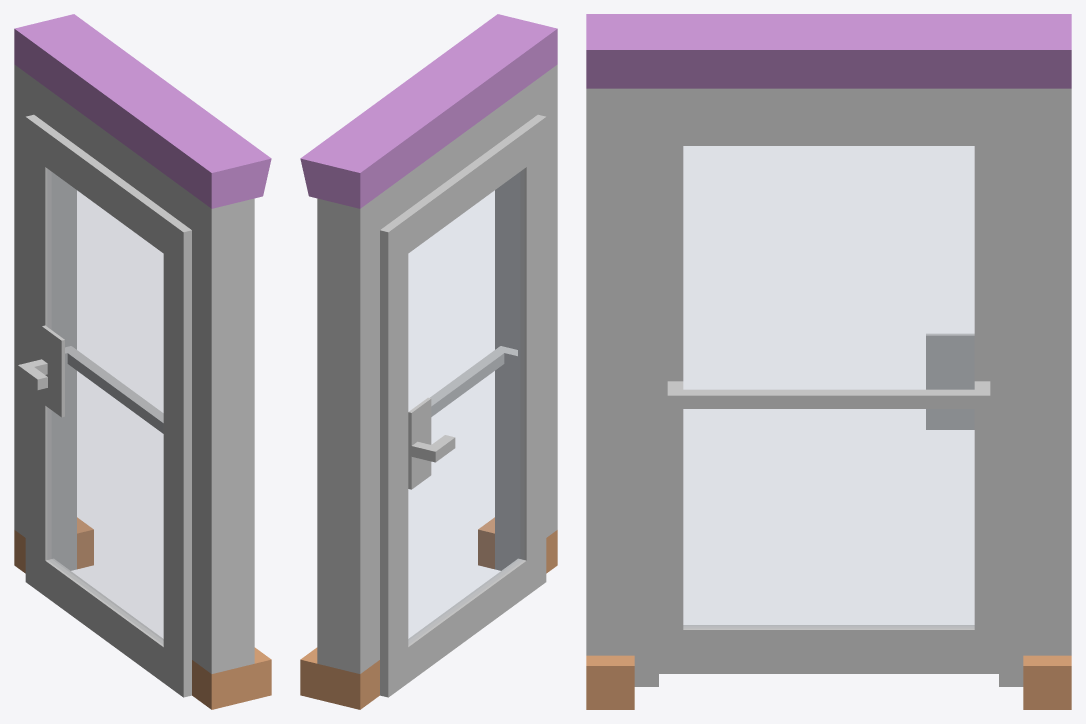
File: door_wall.glb
The picture shows the model from 3 angles, left to right: view 1: azimuth 30°, elevation 25°; view 2: azimuth 150°, elevation 25°; view 3: azimuth 270°, elevation 25°; orthographic projection. The views are drawn at different scales.
Parts seen in each view (by area): view 1: door, door_wall; view 2: door, door_wall; view 3: door, door_wall.
Part boxes in pixels (bbox=[...]): door: bbox=[18, 114, 191, 697]; door_wall: bbox=[14, 14, 271, 709]; door: bbox=[380, 114, 546, 697]; door_wall: bbox=[300, 14, 557, 709]; door: bbox=[659, 137, 998, 673]; door_wall: bbox=[586, 14, 1071, 709].
Bounding box in the file's own units: 0.56 × 3 × 2.
